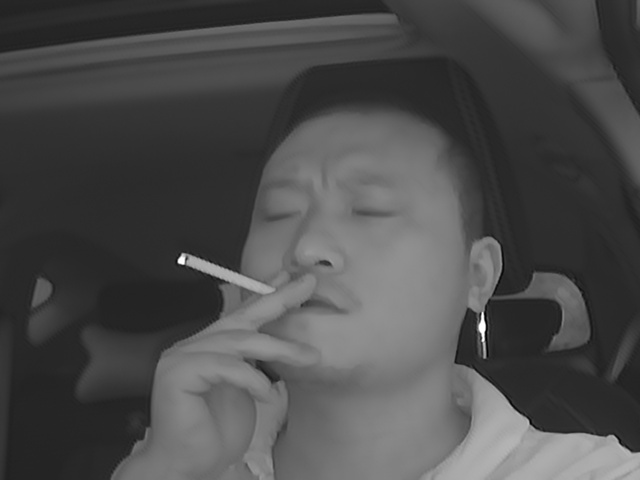hand: (184, 262, 310, 419)
